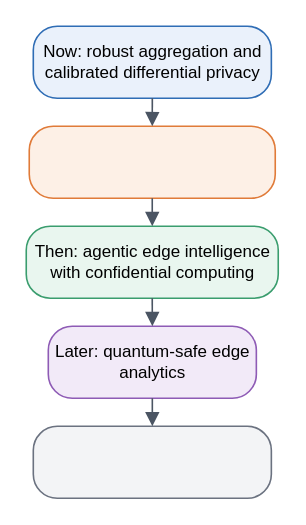
Image size: 306x525. Some labels were removed from this diagram. Each missing label, with the centre of its shape:
Beyond: cognitive distributed systems: pixel 152 461
Next: privacy-preserving edge foundation models: pixel 151 161
